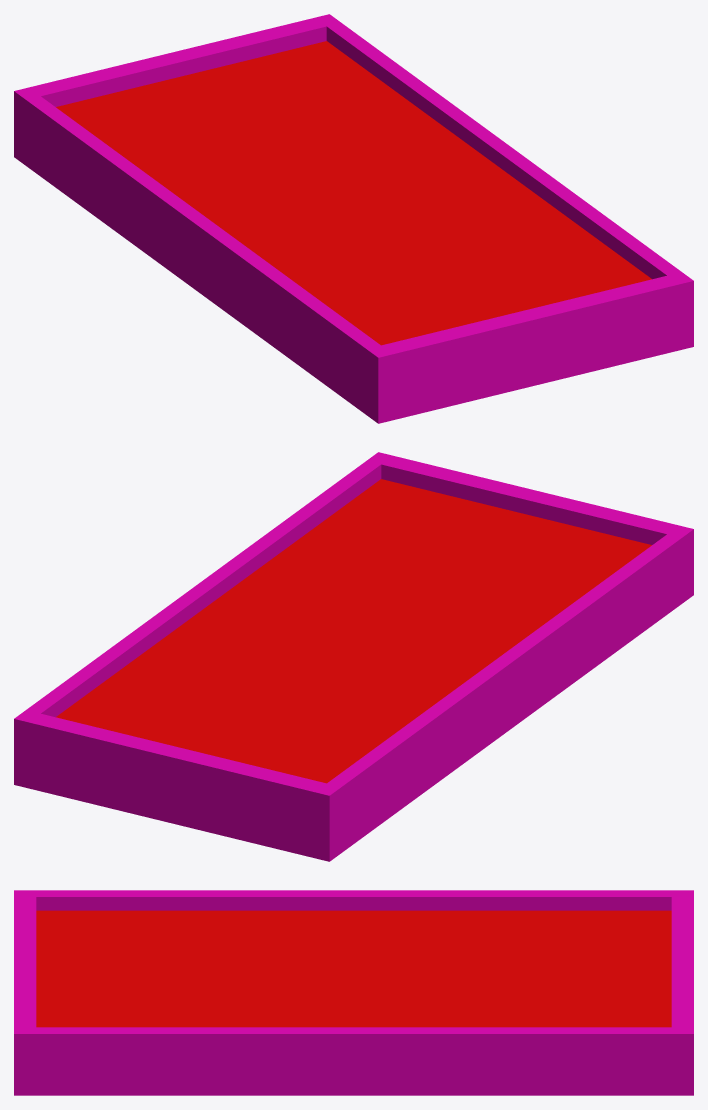
File: UN_cine_luz cine.fbx
The picture shows the model from 3 angles, top to bottom: view 1: azimuth 30°, elevation 25°; view 2: azimuth 150°, elevation 25°; view 3: azimuth 270°, elevation 25°; orthographic projection. The views are drawn at different scales.
Visible parts, largest first — view 1: Cube.001, Cube; view 2: Cube.001, Cube; view 3: Cube.001, Cube.
Part boxes in pixels (<box>): Cube.001: <box>56,41,651,345</box>; Cube: <box>14,14,693,423</box>; Cube.001: <box>56,479,651,783</box>; Cube: <box>14,452,693,861</box>; Cube.001: <box>36,910,671,1027</box>; Cube: <box>14,890,693,1095</box>.
Size of the model in its own units: 50 by 10 by 100.
